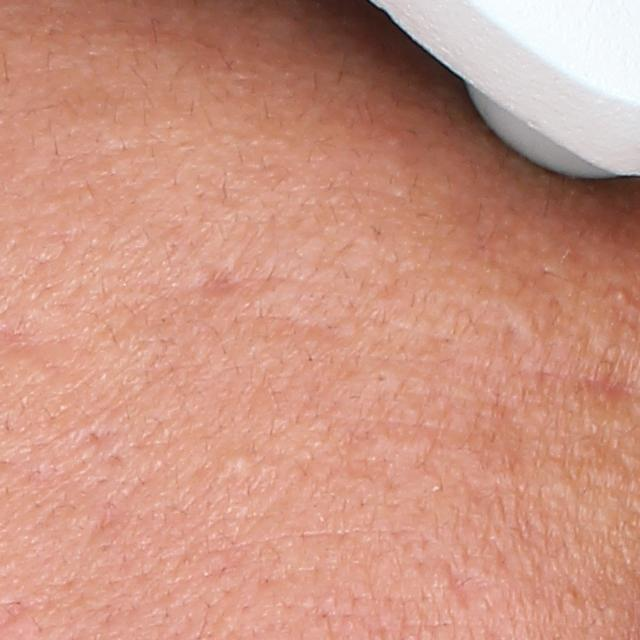comedo: (223, 449, 257, 478)
